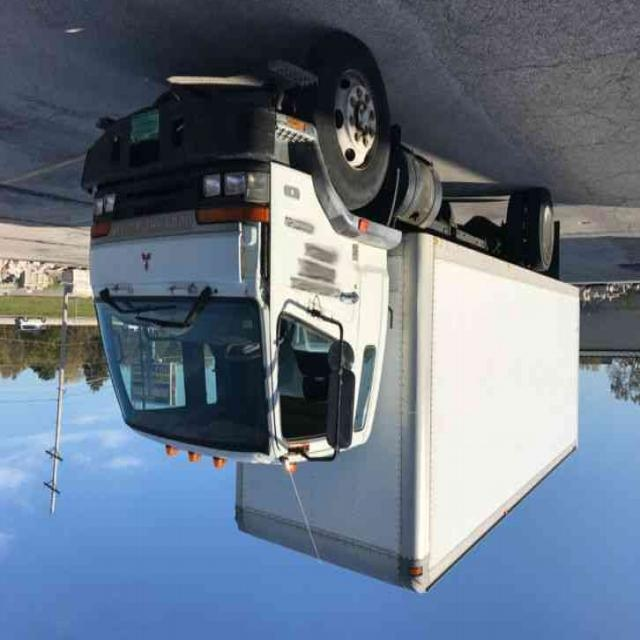Truck: (82, 42, 580, 598)
